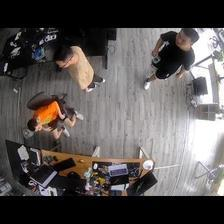normal: (144, 29, 198, 87), (55, 46, 105, 93), (26, 102, 85, 140)
